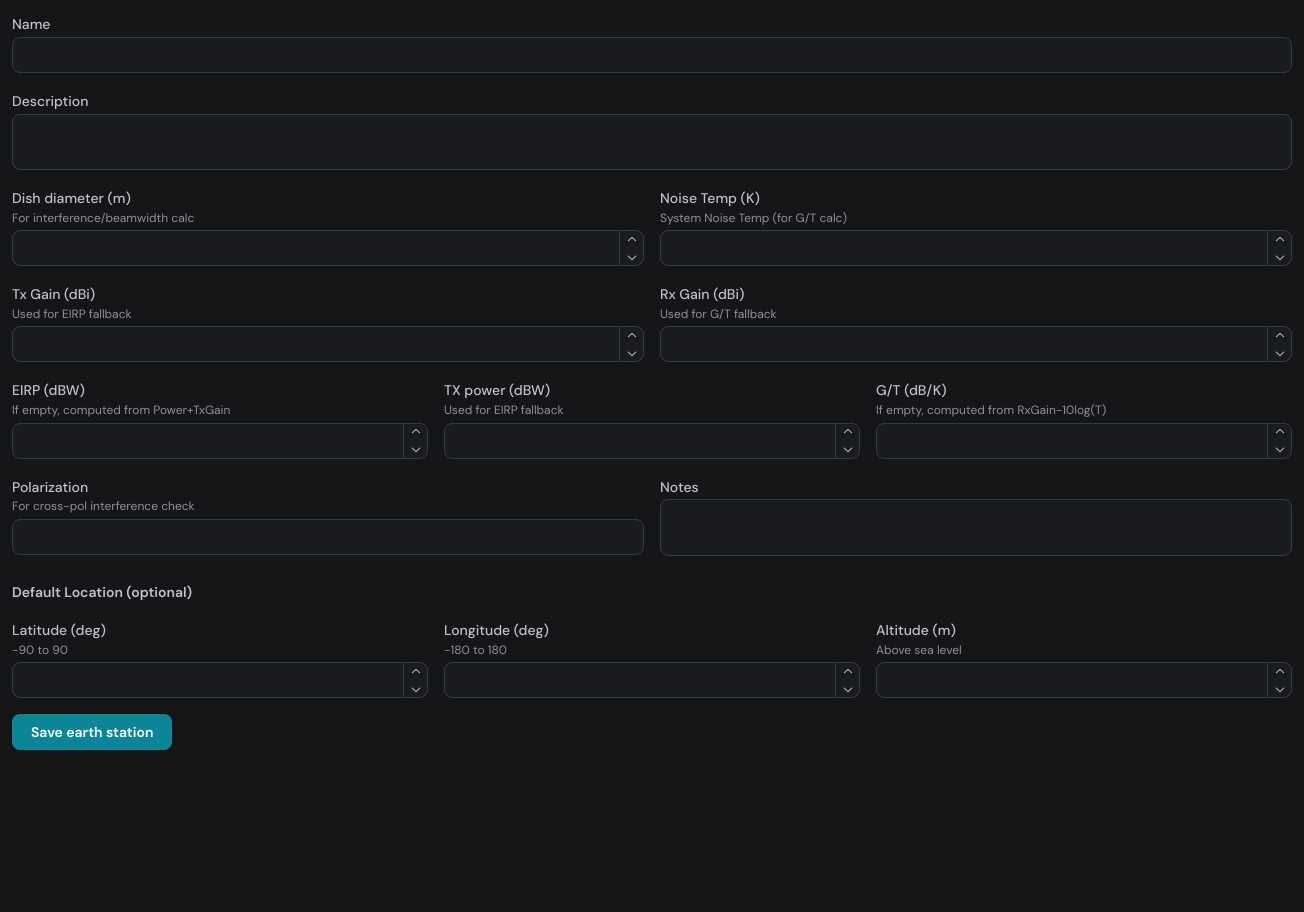
it: EarthStationForm › validates empty name on submit
The image size is (1304, 912).
Step 1. Click the button "Save earth station" → click(92, 732), box [12,714,172,750]
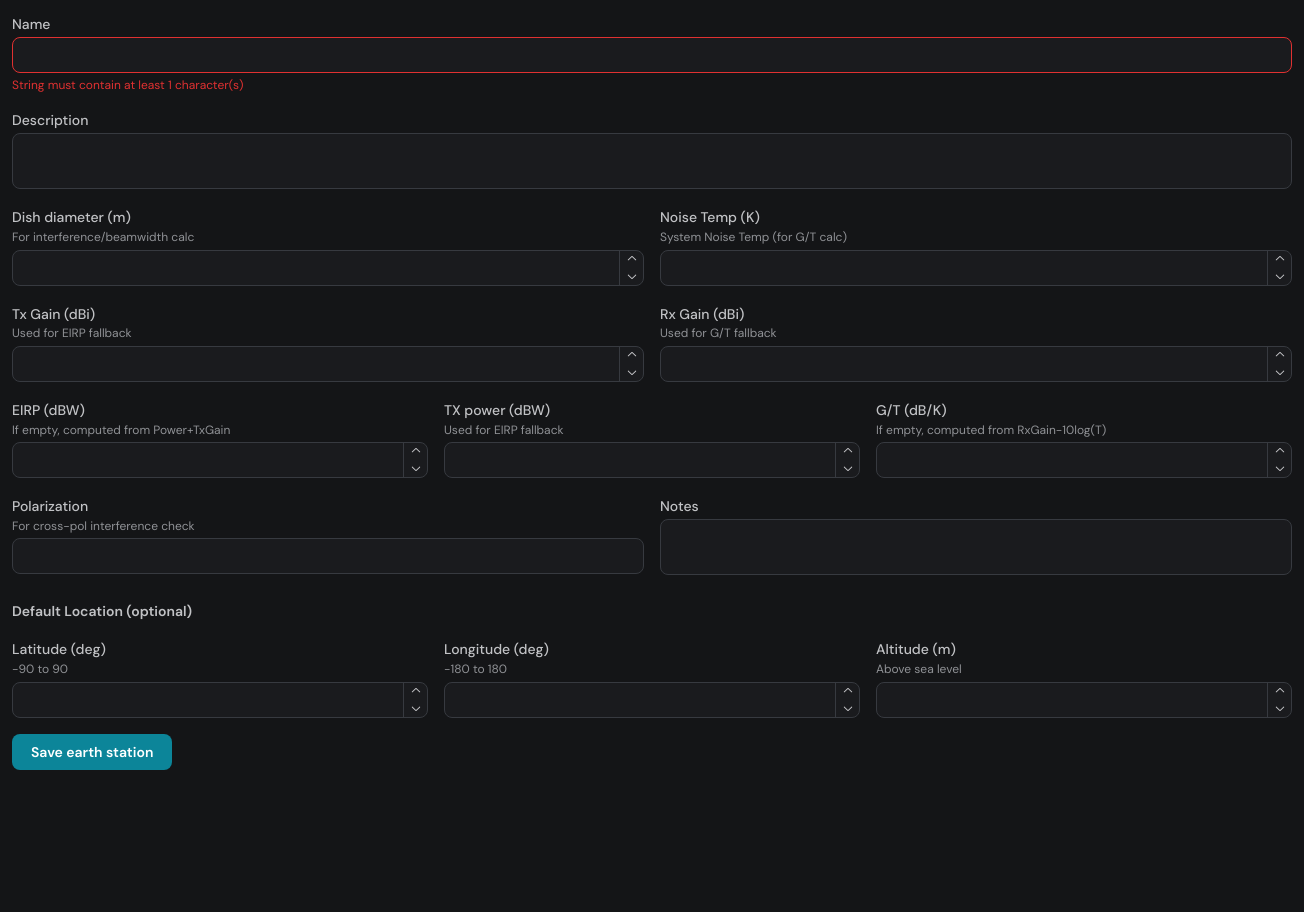
Check: the text "String must contain at least 1 character(s)" is shown, box [12,77,243,93]
